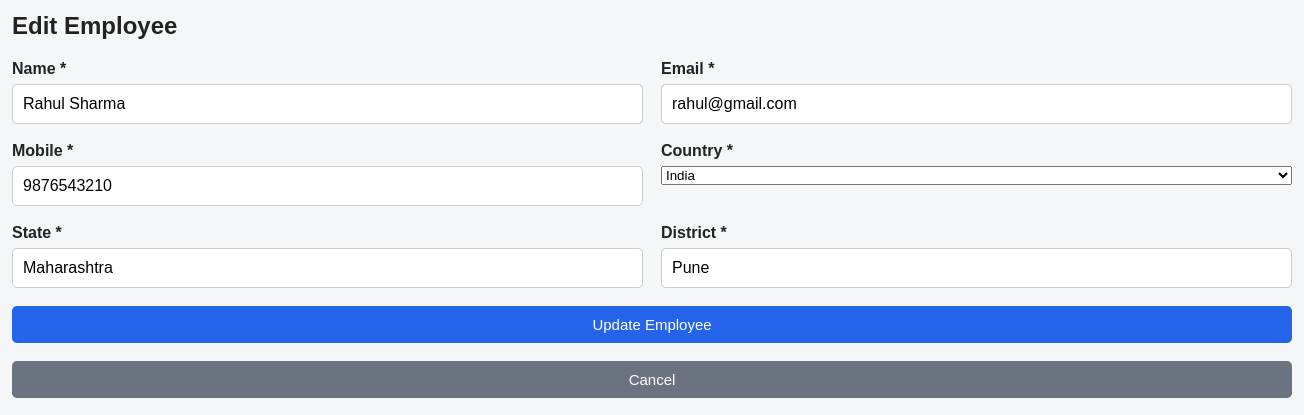
Scenario: EmployeeForm › cancels editing and resets the form
The width and height of the screenshot is (1304, 415).
Step 1. Click the button "Cancel" → {"x": 652, "y": 380}, box [12,361,1292,398]
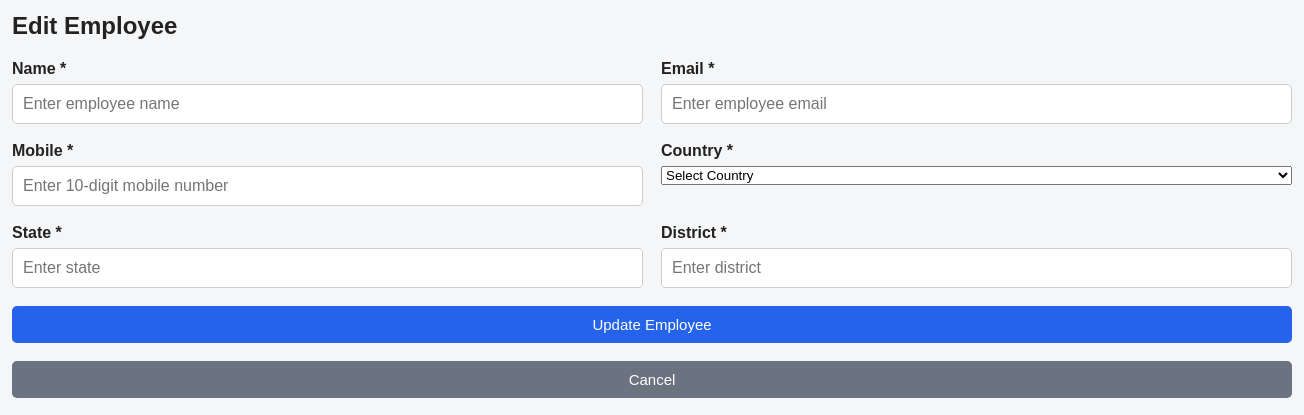
Expected: the field with placeholder "Enter employee name" is empty, [12,84,643,124]
Expected: the field with placeholder "Enter employee email" is empty, [661,84,1292,124]
Expected: the field with placeholder "Enter 10-digit mobile number" is empty, [12,166,643,206]
